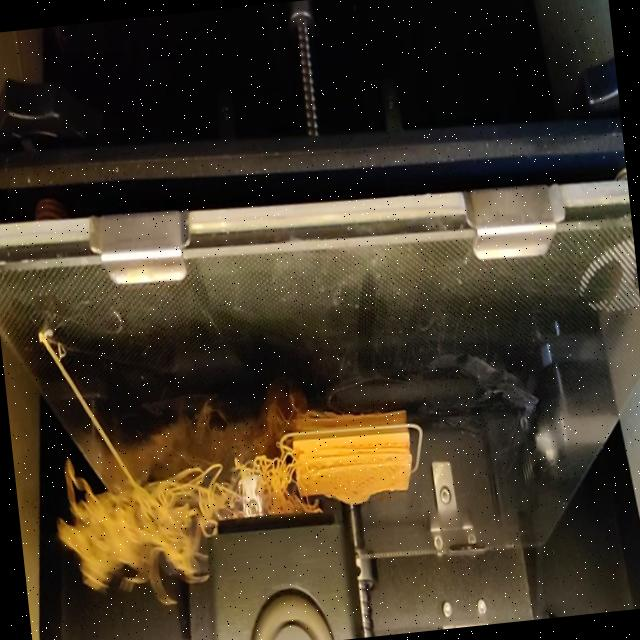spaghetti: (247, 449, 308, 524)
